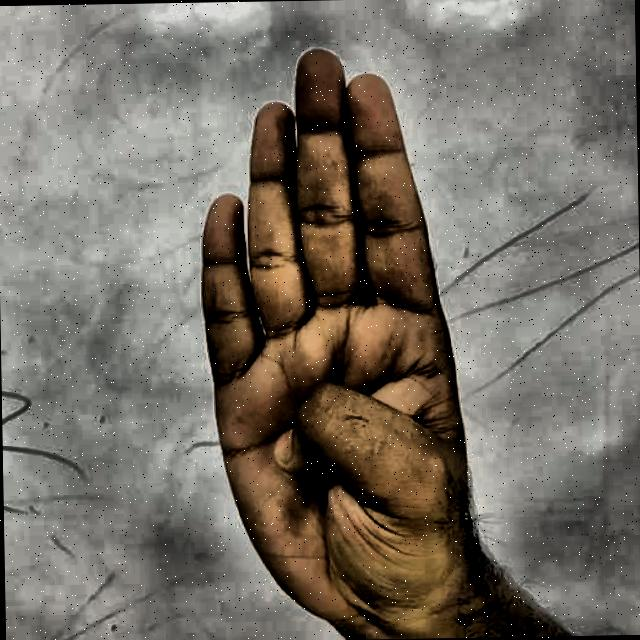Ba: (155, 25, 538, 640)
